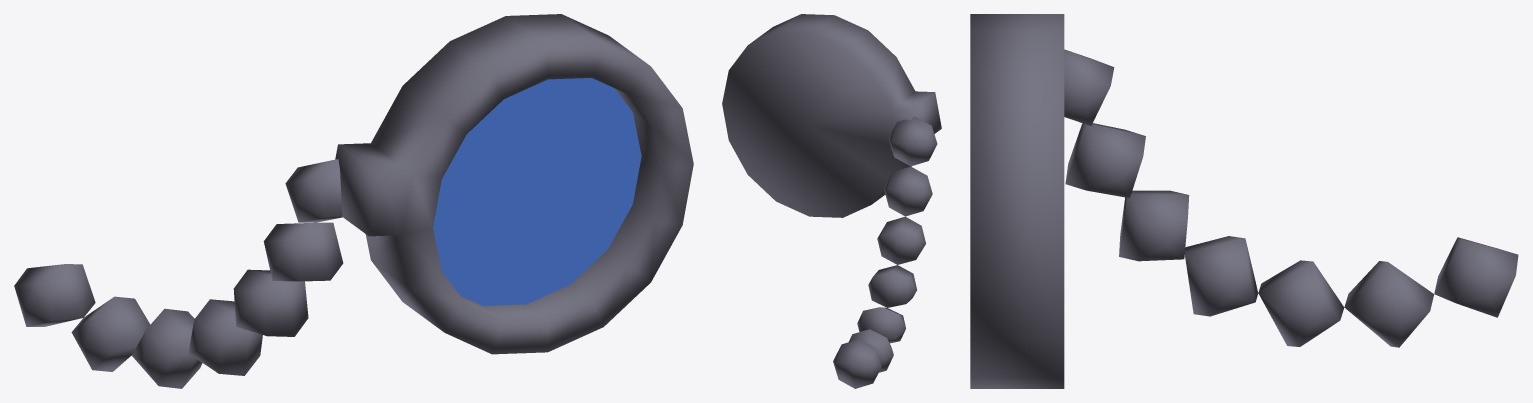
The model's file is CUMonocle.fbx.
The picture shows the model from 3 angles, left to right: view 1: azimuth 30°, elevation 25°; view 2: azimuth 150°, elevation 25°; view 3: azimuth 270°, elevation 25°; orthographic projection. The views are drawn at different scales.
Parts seen in each view (by area): view 1: Monocle, MonocleLens; view 2: Monocle; view 3: Monocle.
Boxes of the visible parts, bbox=[...] form: Monocle: bbox=[14, 14, 693, 388]; MonocleLens: bbox=[433, 78, 641, 305]; Monocle: bbox=[722, 14, 941, 388]; Monocle: bbox=[970, 14, 1518, 388].
Bounding box in the file's own units: 61.2 × 52.81 × 58.4.
